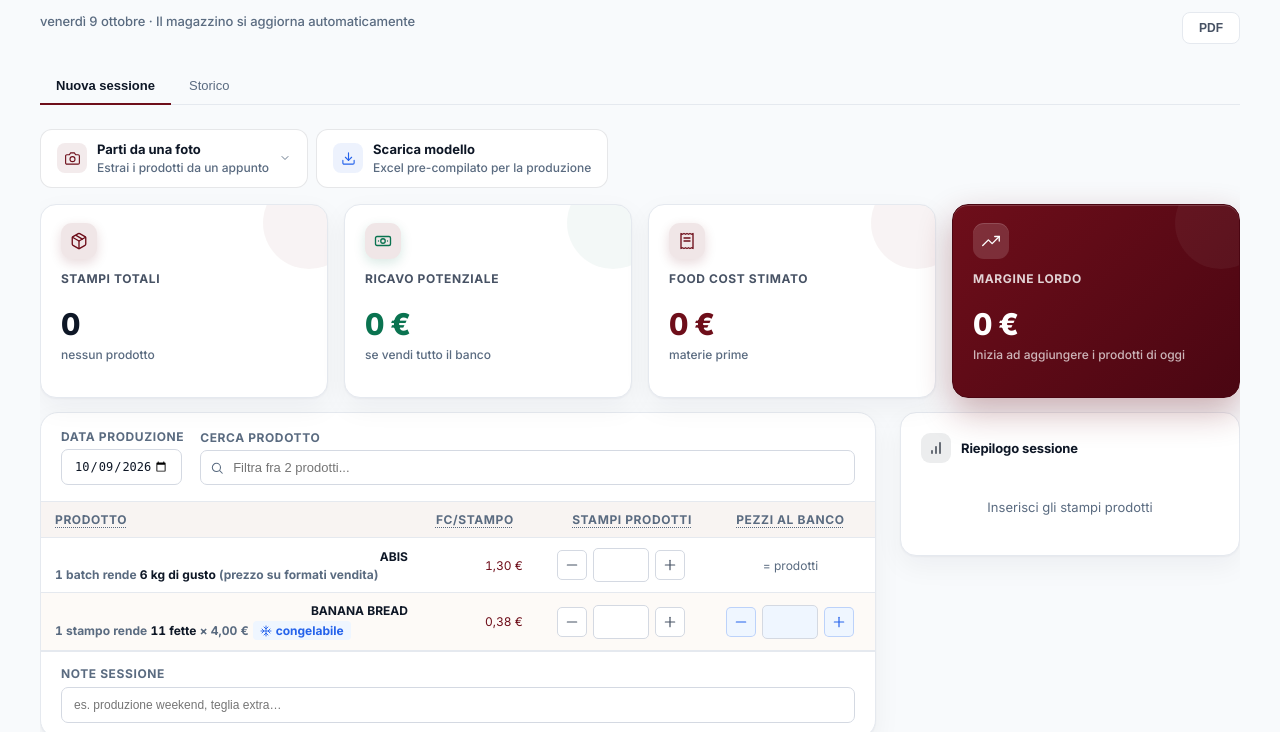
storico — un numero che manca si dice, non si inventa › la sessione senza food cost scrive un trattino, non «0 €»
Click the button "Storico" at (209, 86), box [173,68,246,105]
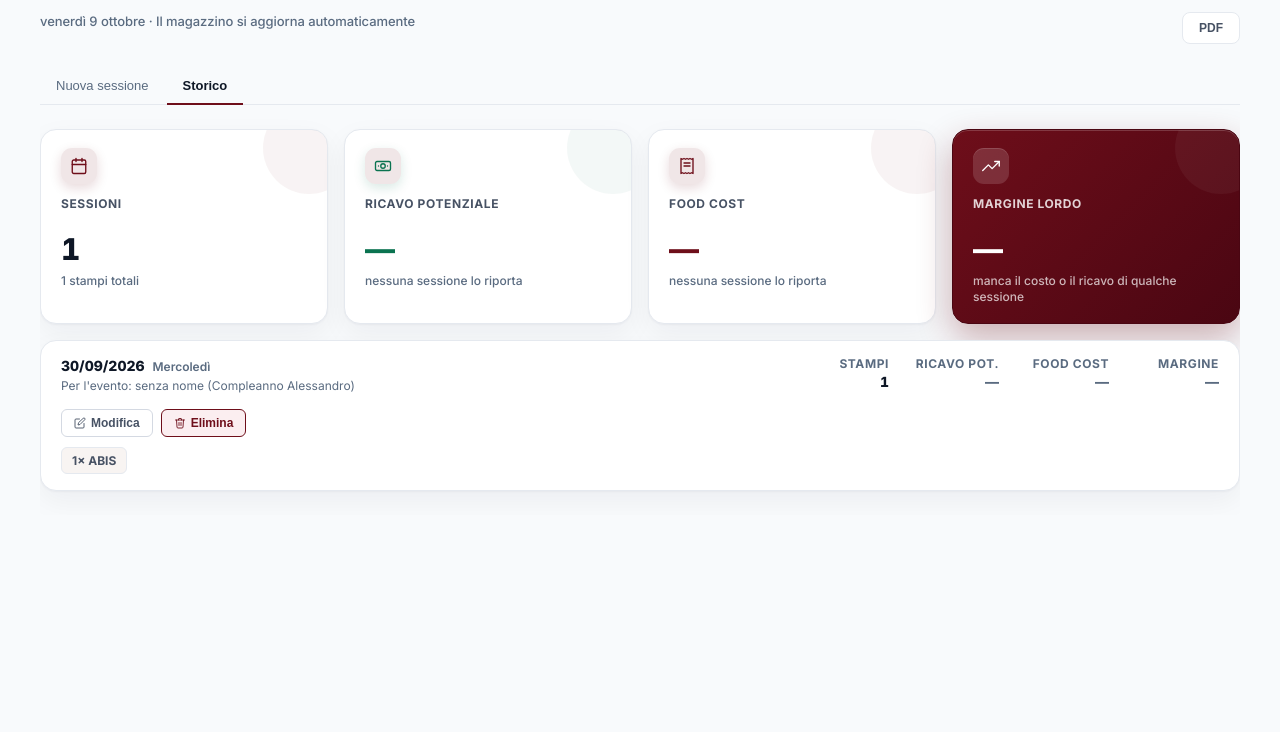
Result: the text "Sessioni" is shown at [61,196,122,211]
Result: the text "—" is shown at [365,231,394,267]
Result: the text "0 €" is gone
